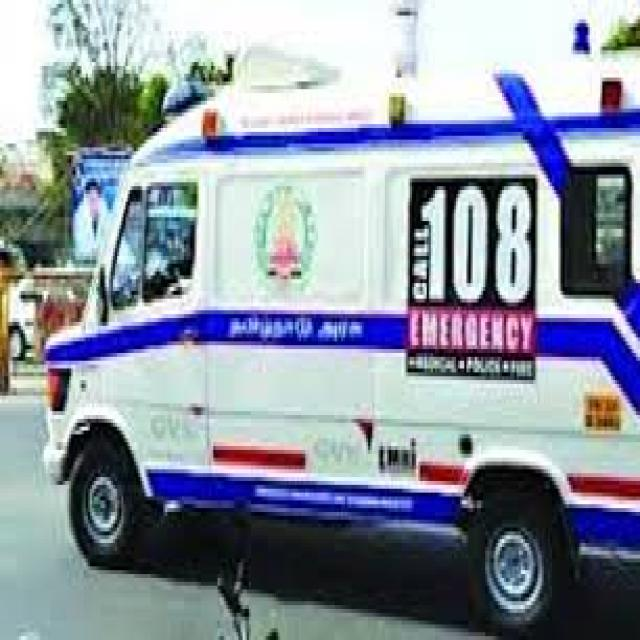Ambulance: (39, 54, 640, 624)
